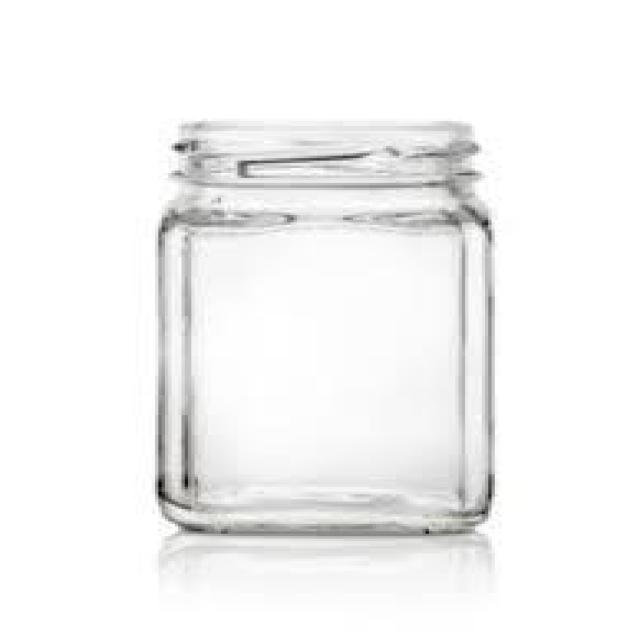Glass: (153, 118, 500, 538)
